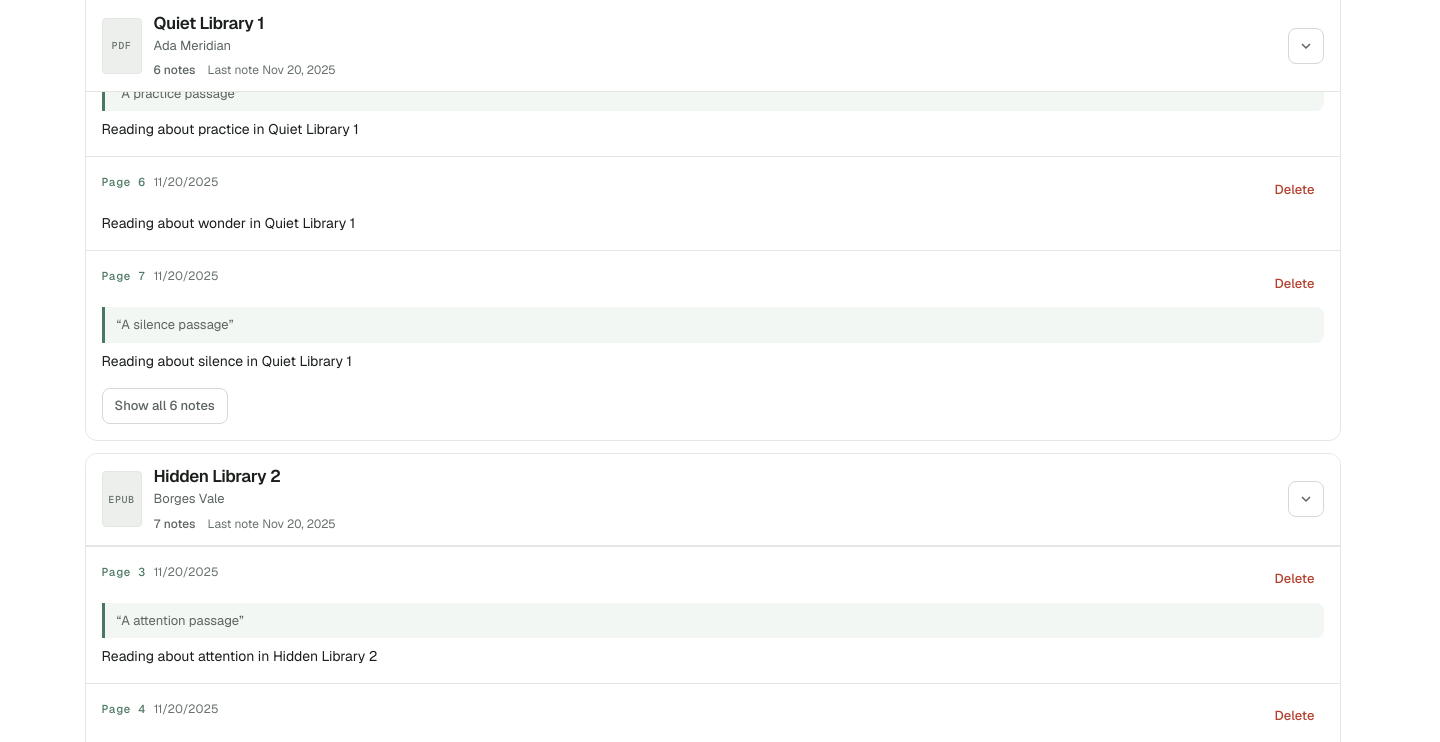
Test case: NotesPage groups › shows a group-level error with retry when loading every note fails
The width and height of the screenshot is (1440, 742).
(page scrolled)
Click the button "Show all 6 notes" at (165, 406), box [102, 388, 228, 424]
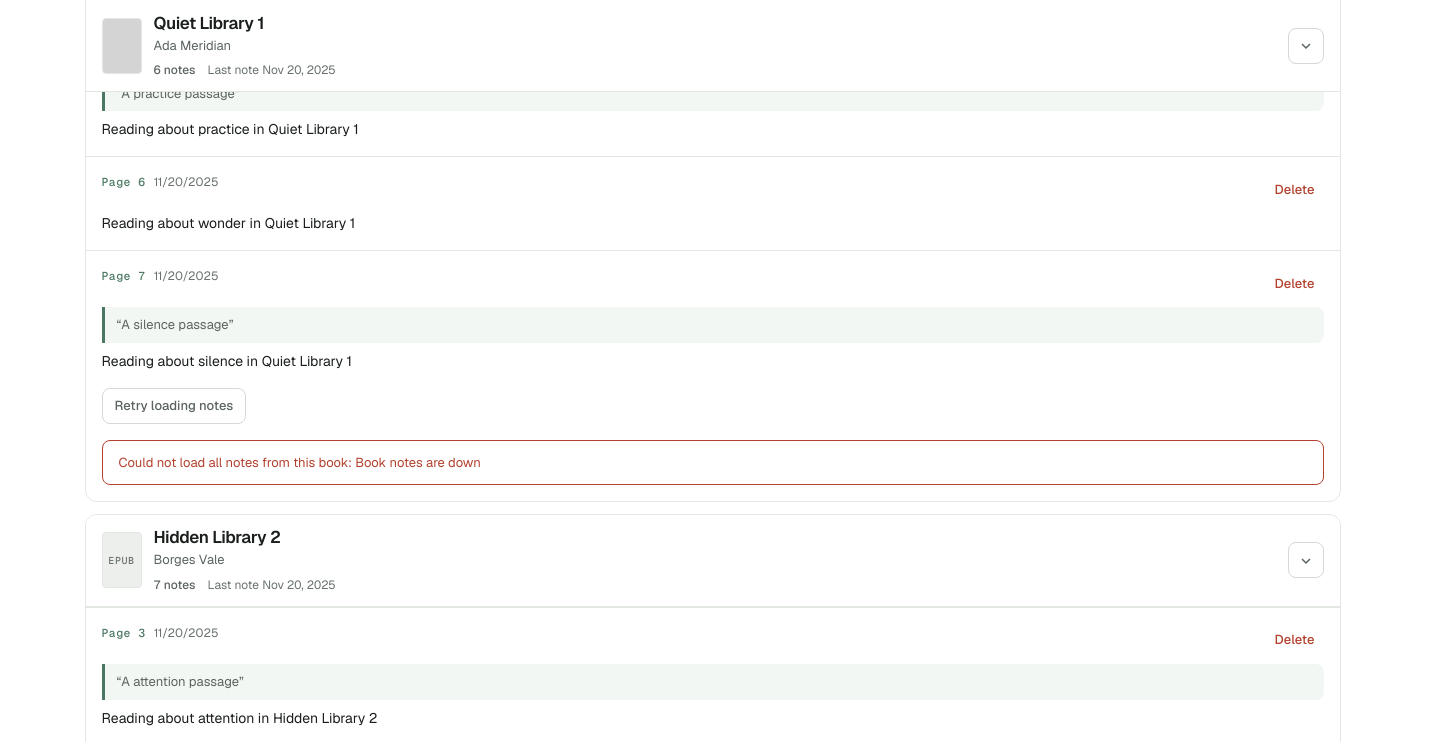
Check: the message shows "Book notes are down", box [355, 454, 481, 471]
Click the button "Retry loading notes" at (174, 406), box [102, 388, 246, 424]
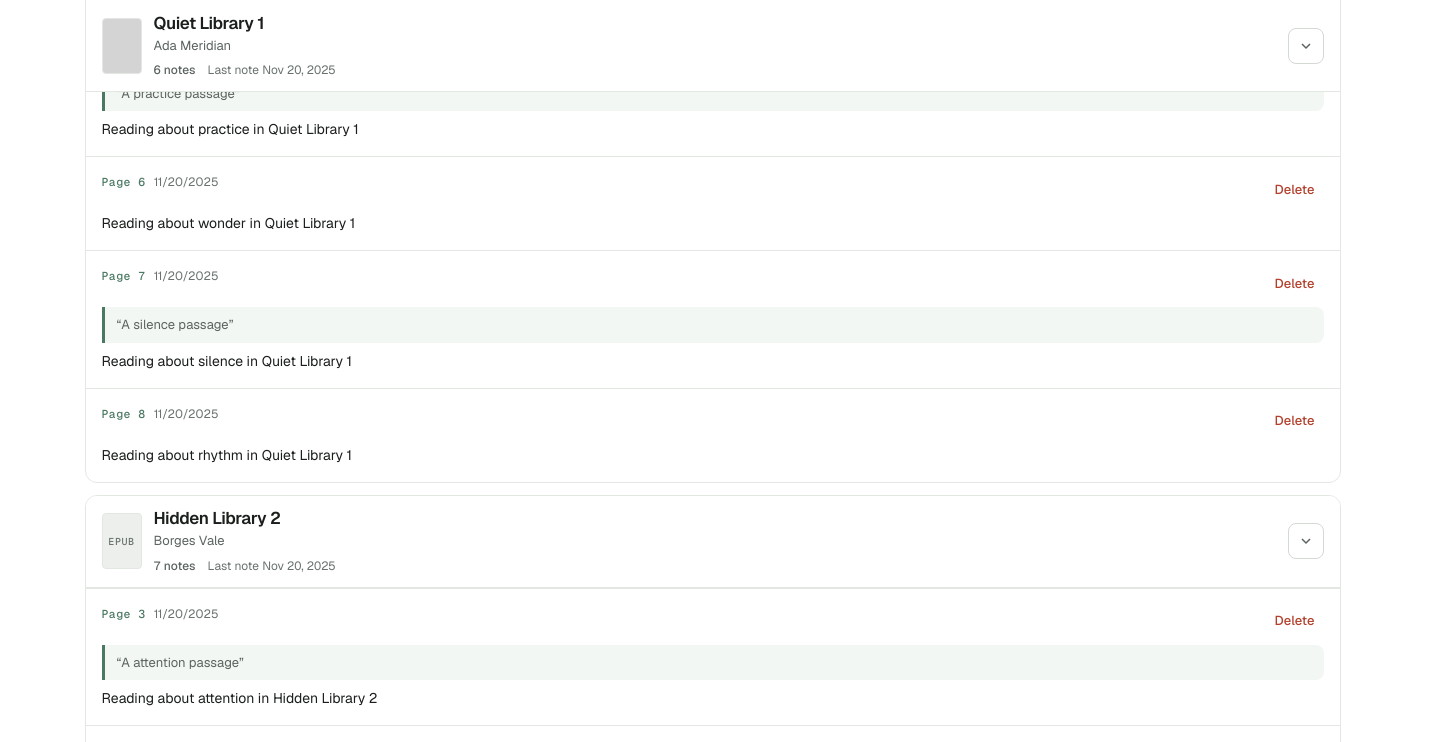
Check: the message "Could not load all notes from this book: Book notes are down" is gone
